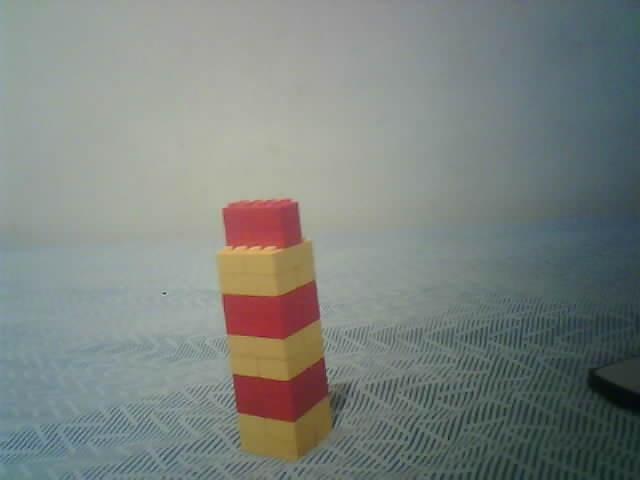lego: (215, 197, 333, 463)
